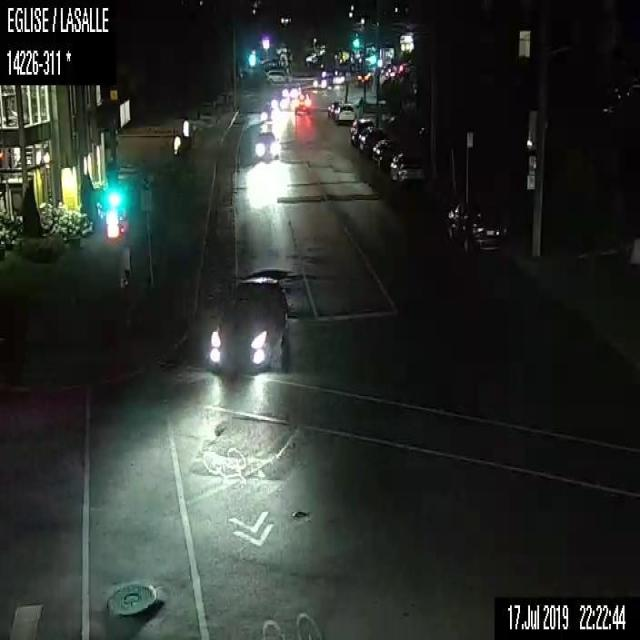vehicle: (209, 274, 289, 370), (444, 199, 502, 256), (391, 151, 424, 185), (251, 129, 278, 160), (372, 136, 398, 168), (348, 116, 374, 146), (359, 124, 380, 153), (309, 70, 336, 90), (291, 92, 313, 116), (266, 67, 291, 84), (336, 102, 356, 122), (270, 93, 292, 109), (259, 105, 279, 121), (282, 83, 299, 97)
